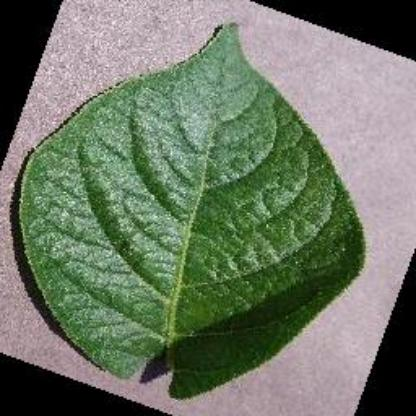Healthy-plant: (15, 16, 373, 396)
